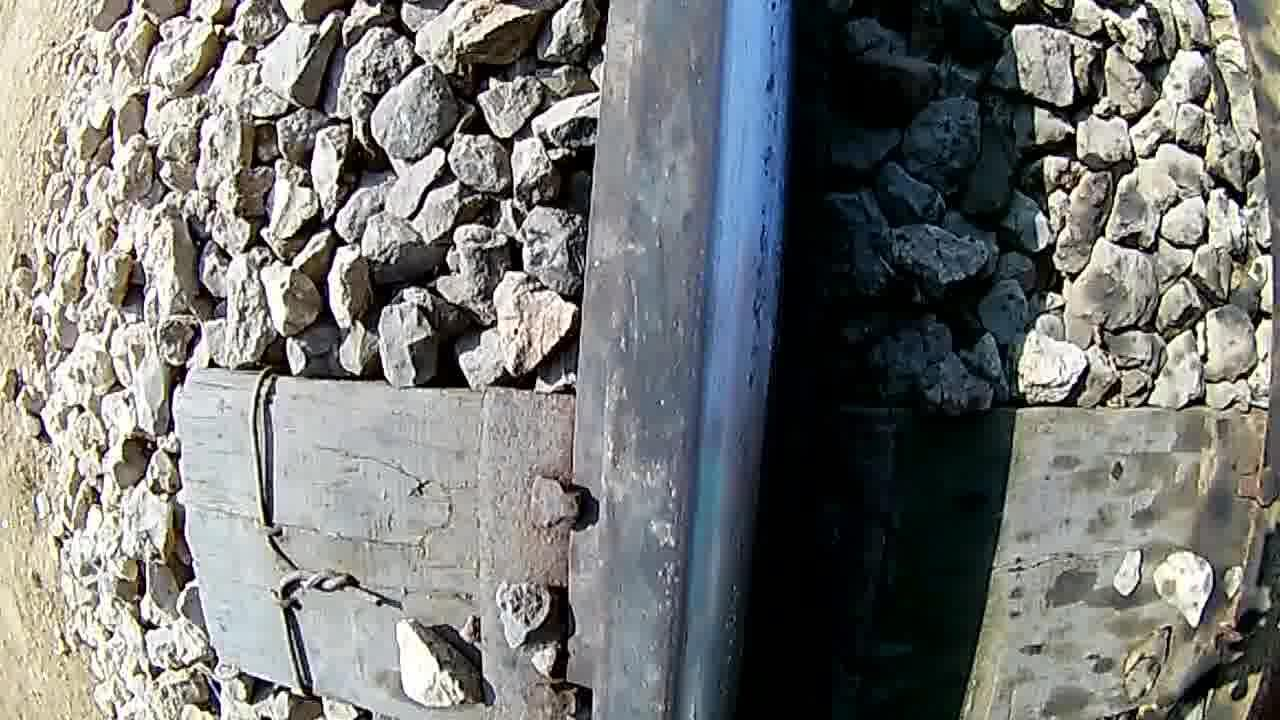crack: (624, 0, 797, 720)
